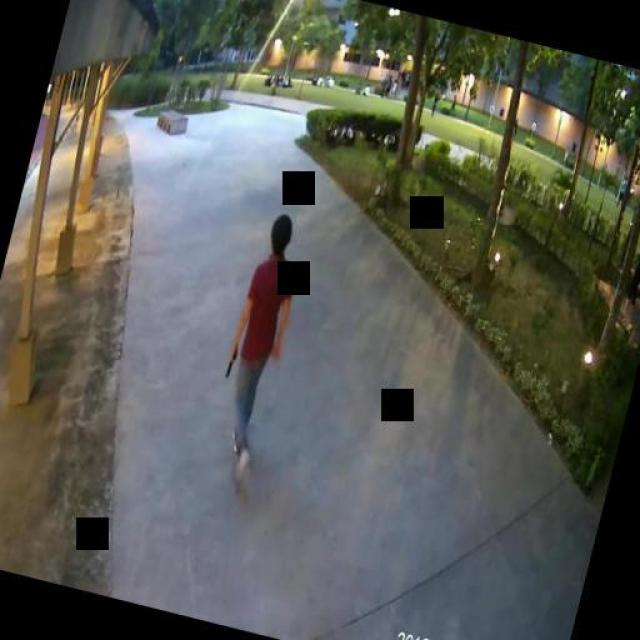gun: (224, 342, 238, 378)
